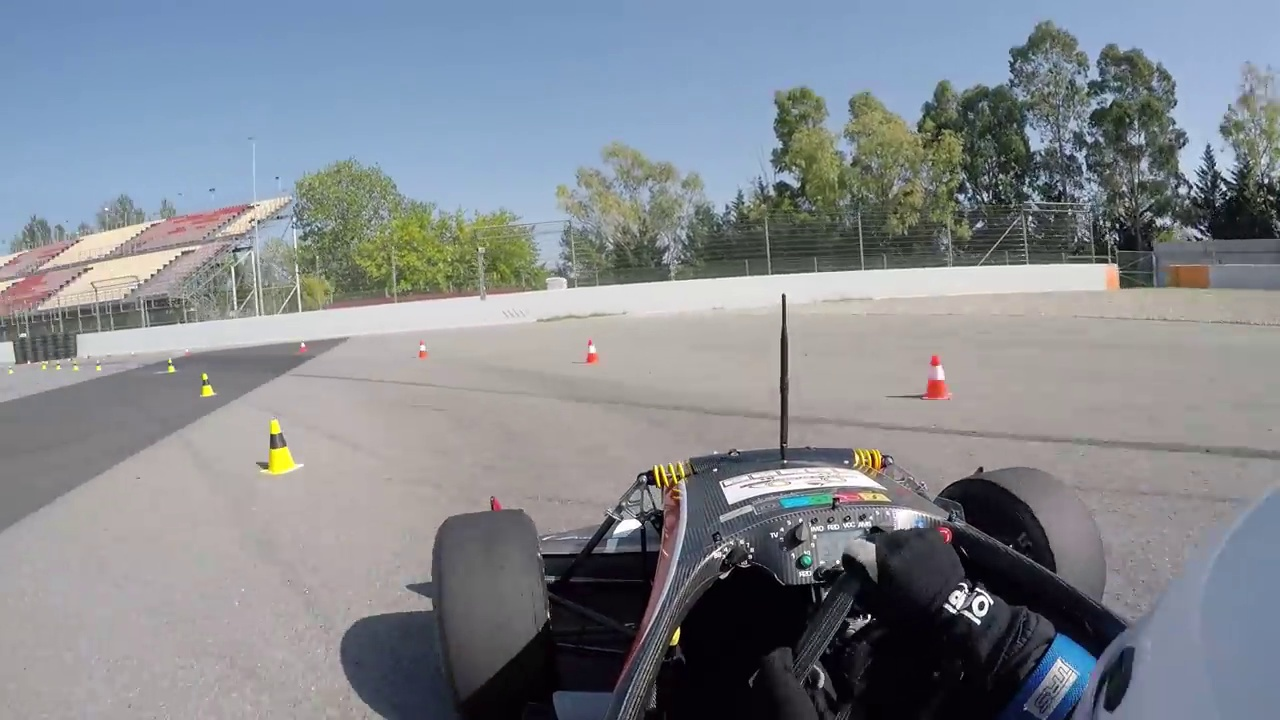Cone: (262, 416, 300, 477), (921, 352, 952, 403)
